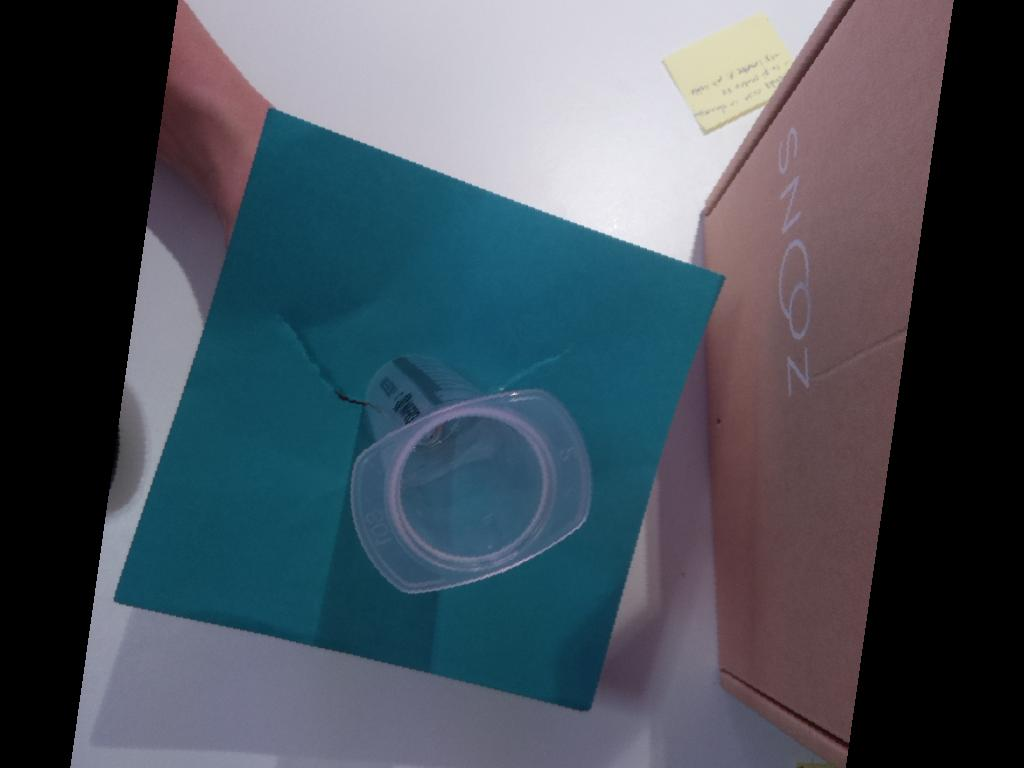clean: (348, 388, 594, 597)
